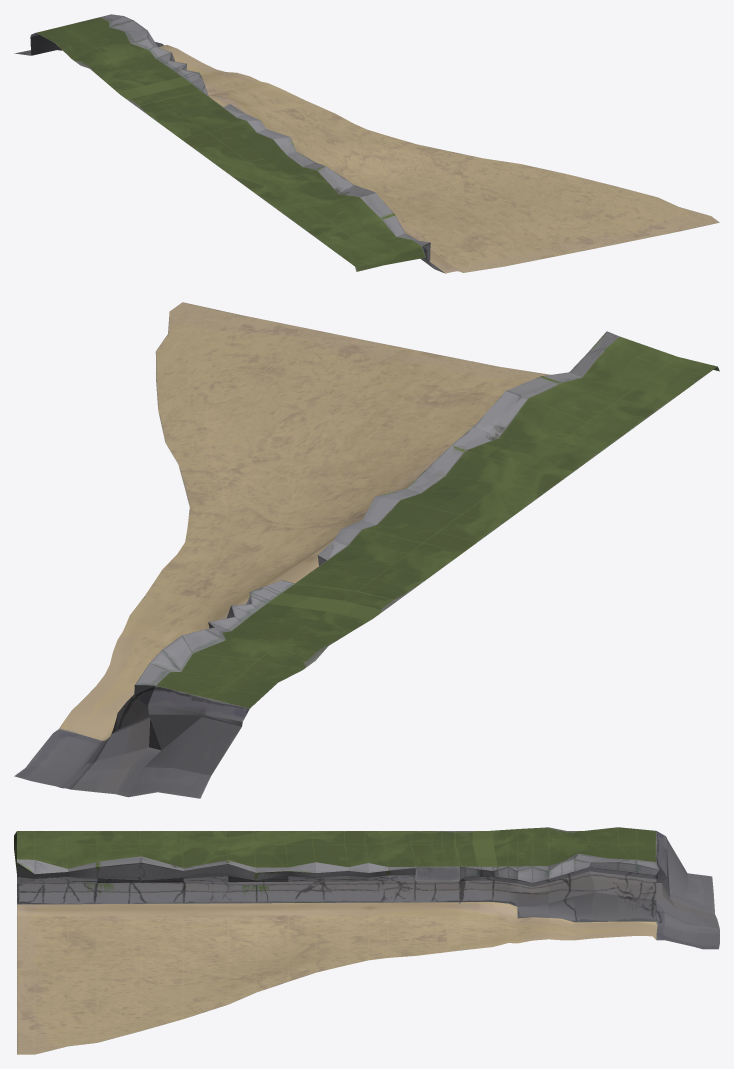
The model's file is beach.fbx.
The picture shows the model from 3 angles, top to bottom: view 1: azimuth 30°, elevation 25°; view 2: azimuth 150°, elevation 25°; view 3: azimuth 270°, elevation 25°; orthographic projection. The views are drawn at different scales.
Parts seen in each view (by area): view 1: BeachArea; view 2: BeachArea; view 3: BeachArea.
Boxes of the visible parts, <box> form: BeachArea: <box>14,14,719,273</box>; BeachArea: <box>14,302,719,798</box>; BeachArea: <box>14,827,719,1054</box>.
Bounding box in the file's own units: 2946 × 490 × 4924.
